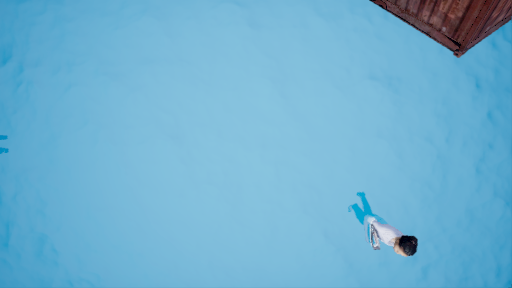person: (342, 188, 423, 257)
